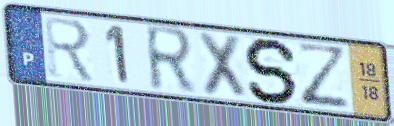1: (102, 24, 131, 88)
R: (142, 22, 198, 97), (41, 13, 98, 86)
S: (242, 36, 301, 106)
X: (195, 29, 249, 103)
Z: (293, 39, 353, 110)
